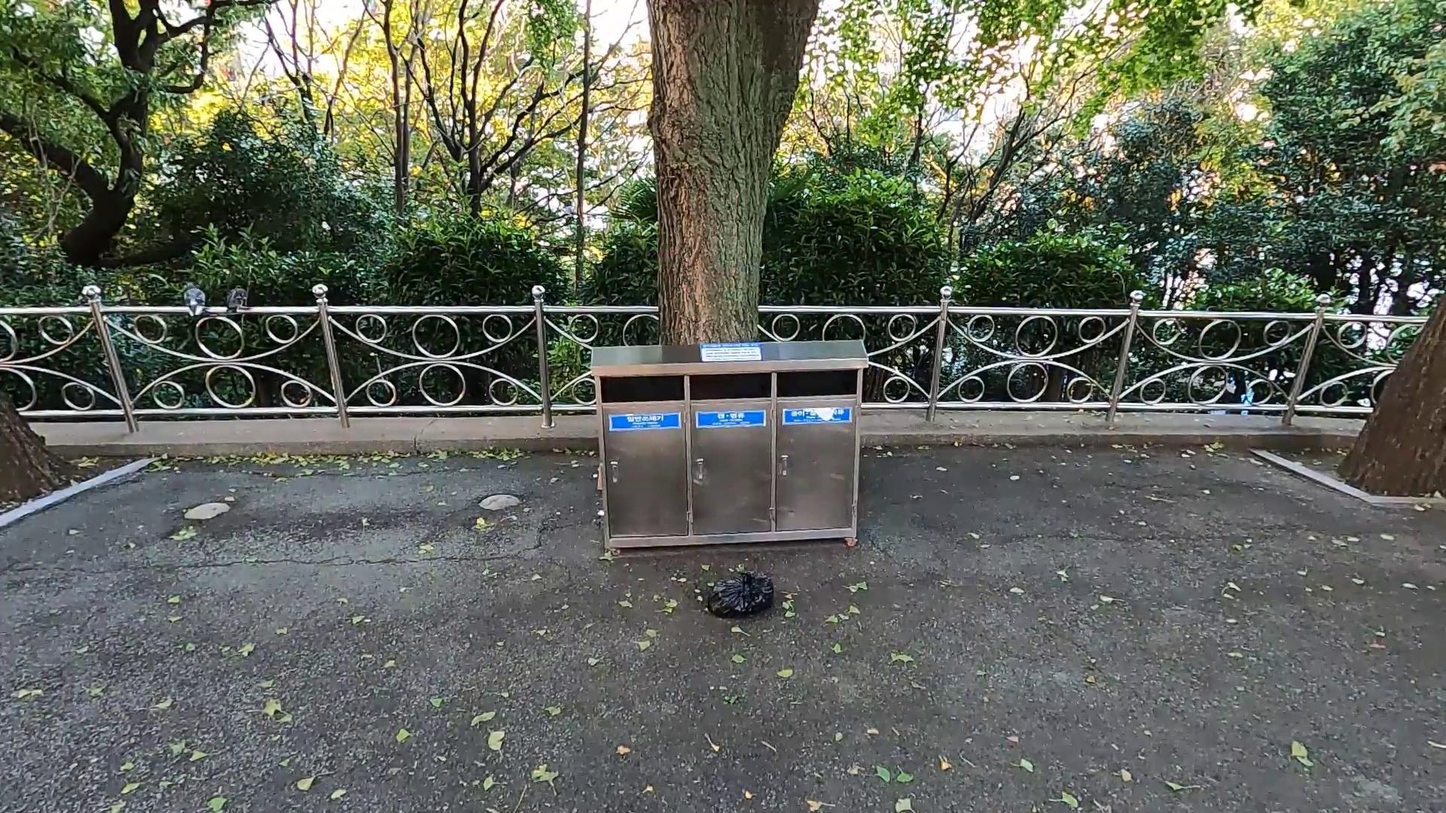trash: (708, 565, 773, 622)
